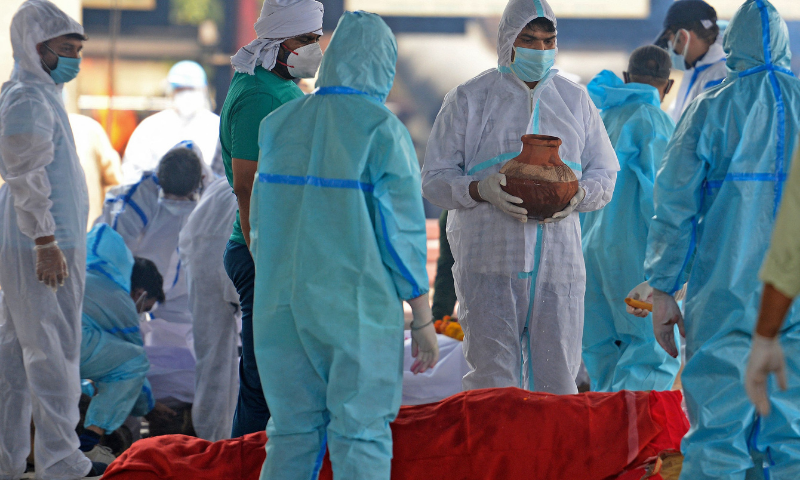Coverall: (256, 16, 424, 480), (424, 1, 609, 396), (659, 1, 798, 480), (1, 1, 89, 477), (577, 77, 671, 391), (120, 144, 231, 401), (77, 236, 137, 434)
Gloves: (743, 335, 793, 419), (650, 287, 688, 361), (478, 170, 529, 223), (29, 237, 71, 291)
with_mask: (509, 31, 559, 83), (280, 29, 326, 80), (44, 38, 82, 84)
